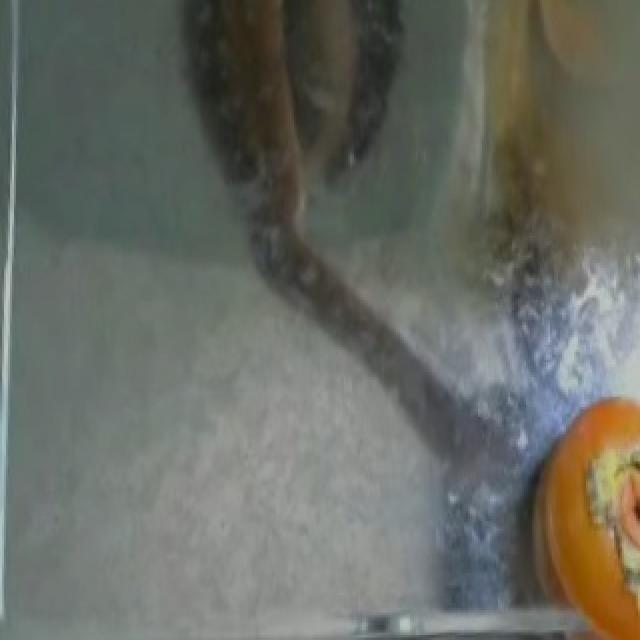Fruit: (518, 387, 640, 635)
